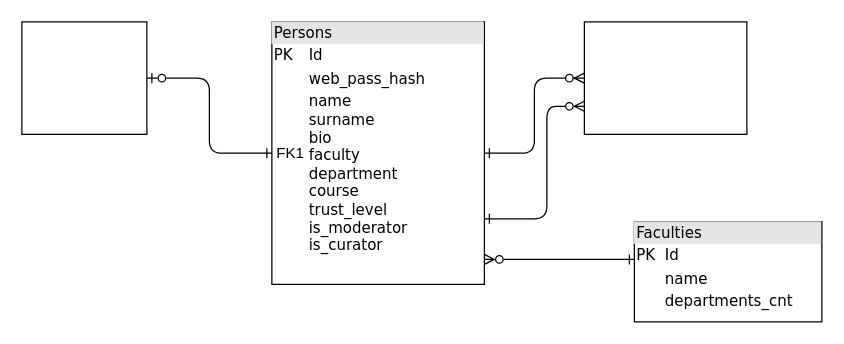
The diagram is 844 pixels wide and 344 high, and some of its shapes have lost their labels. The shapes that lost their labels are listed below. From the top down, each one's centre as x and y in pixels, then its label:
At [84,77]: "UserImages PK Id FK1 user path type".
At [665,77]: "Friends PK Id FK1 sender FK2 reciever is_applied".
